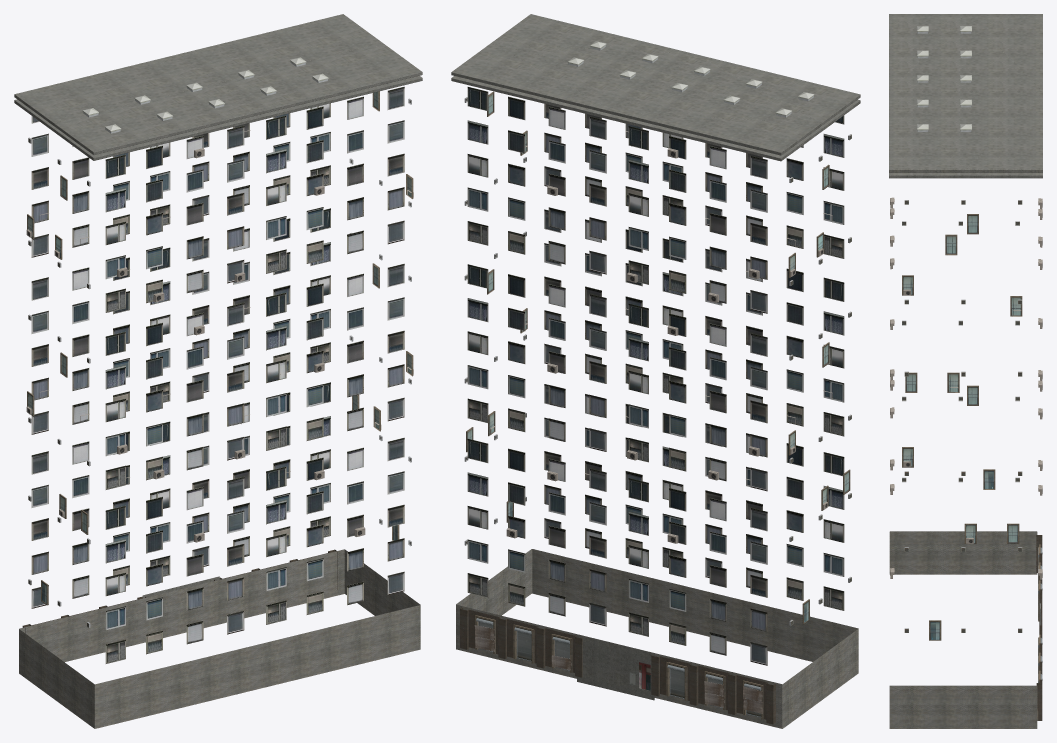
File: u2SEBuild12.gltf
The picture shows the model from 3 angles, left to right: view 1: azimuth 30°, elevation 25°; view 2: azimuth 150°, elevation 25°; view 3: azimuth 270°, elevation 25°; orthographic projection. The views are drawn at different scales.
Visible parts, largest first — view 1: u2SEBuild12; view 2: u2SEBuild12; view 3: u2SEBuild12.
Boxes of the visible parts, x1,y1,x2,y2 form: u2SEBuild12: (14,14,422,728); u2SEBuild12: (451,14,860,728); u2SEBuild12: (889,14,1042,728).
Bounding box in the file's own units: 11.81 × 20.01 × 4.93.
12 materials, 12 textured.
